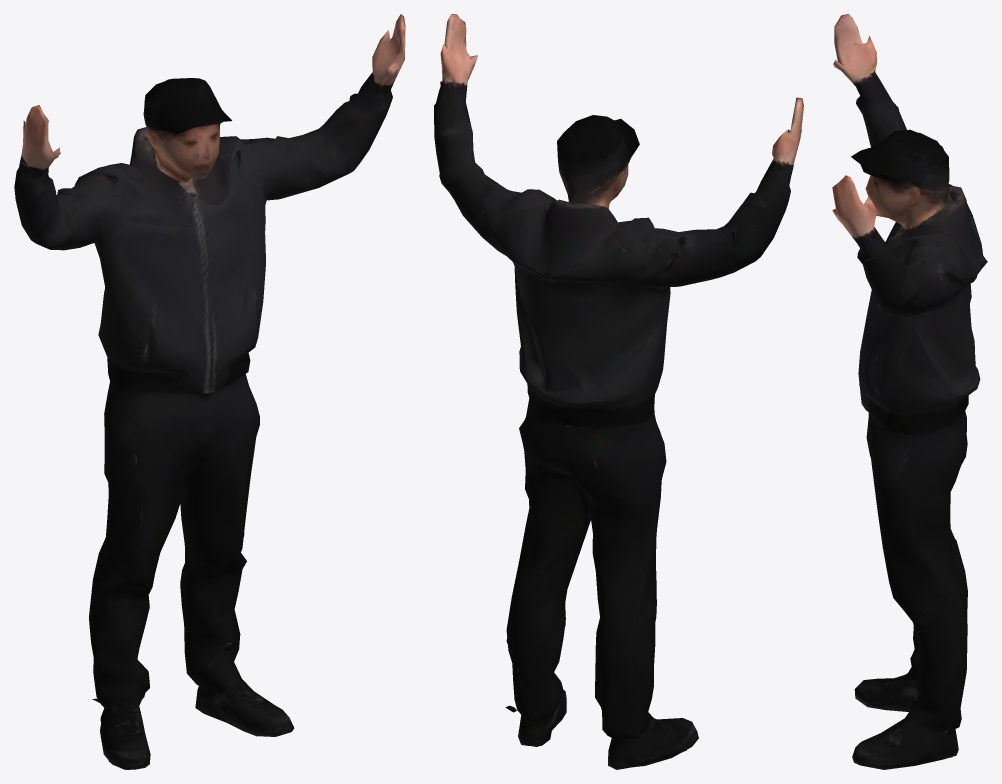
The model's file is fan-m-cap-s1.lo.glb.
3 views of the same model, side by side, from view 1: azimuth 30°, elevation 25°; view 2: azimuth 150°, elevation 25°; view 3: azimuth 270°, elevation 25° (orthographic). The views are drawn at different scales.
Parts seen in each view (by area): view 1: geometry_0; view 2: geometry_0; view 3: geometry_0.
Part boxes in pixels (<box>): geometry_0: <box>14,14,405,769</box>; geometry_0: <box>434,14,803,769</box>; geometry_0: <box>832,14,987,769</box>.
Bounding box in the file's own units: 0.5621 × 0.9985 × 0.2204.
Materials: 1 (1 with a texture image).
